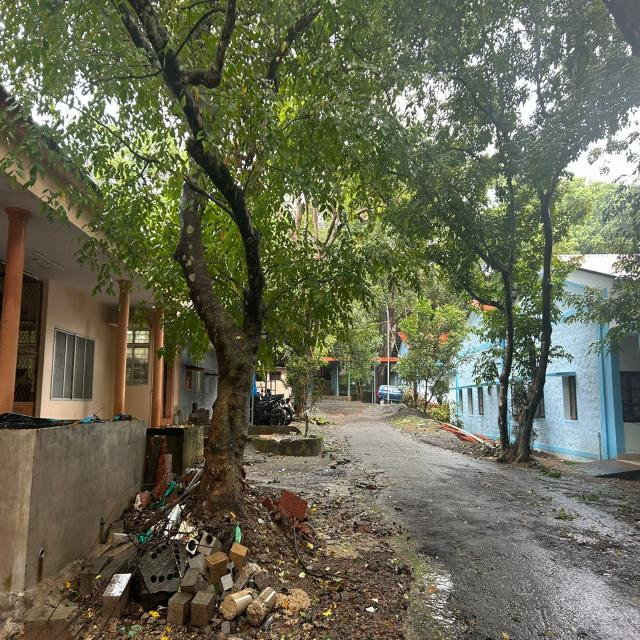stones ahead at: (108, 509, 308, 640)
tree ahead at: (158, 108, 278, 506)
